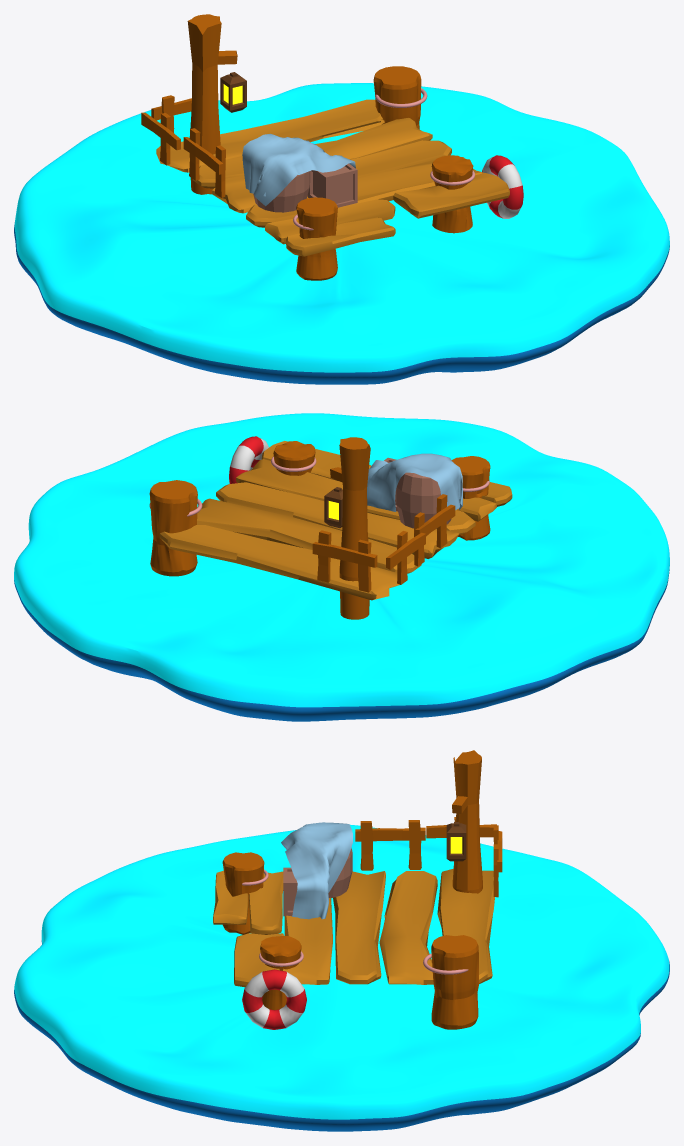
The model's file is beach.glb.
The picture shows the model from 3 angles, top to bottom: view 1: azimuth 30°, elevation 25°; view 2: azimuth 150°, elevation 25°; view 3: azimuth 270°, elevation 25°; orthographic projection.
Visible parts, largest first — view 1: Circle_16, Plane.003_10, Plane.001_9, Cylinder.004_7, Plane_8, Cylinder.001_4, Cylinder.002_5, Cylinder_3, Cube_1, Torus_12, Cylinder.003_6, Cube.001_2; view 2: Circle_16, Plane.003_10, Cylinder.004_7, Plane_8, Cylinder.002_5, Plane.001_9, Cylinder.003_6, Cylinder.001_4, Cylinder_3, Torus_12, Cube.001_2; view 3: Circle_16, Plane.003_10, Plane.001_9, Cylinder.002_5, Cylinder.004_7, Plane_8, Torus_12, Cylinder.001_4, Cylinder_3, Cube.001_2, Cube_1.
Boxes of the visible parts, x1=… form: Circle_16: x1=14, y1=83, x2=669, y2=384; Plane.003_10: x1=156, y1=99, x2=509, y2=256; Plane.001_9: x1=242, y1=133, x2=355, y2=206; Cylinder.004_7: x1=187, y1=14, x2=237, y2=194; Plane_8: x1=141, y1=95, x2=225, y2=197; Cylinder.001_4: x1=296, y1=197, x2=337, y2=280; Cylinder.002_5: x1=373, y1=66, x2=421, y2=129; Cylinder_3: x1=431, y1=155, x2=473, y2=233; Cube_1: x1=307, y1=163, x2=357, y2=207; Torus_12: x1=482, y1=155, x2=523, y2=218; Cylinder.003_6: x1=253, y1=171, x2=310, y2=212; Cube.001_2: x1=220, y1=72, x2=246, y2=112; Circle_16: x1=14, y1=413, x2=669, y2=721; Plane.003_10: x1=159, y1=441, x2=512, y2=600; Cylinder.004_7: x1=330, y1=437, x2=370, y2=619; Plane_8: x1=312, y1=494, x2=455, y2=592; Cylinder.002_5: x1=149, y1=480, x2=197, y2=576; Plane.001_9: x1=367, y1=453, x2=462, y2=511; Cylinder.003_6: x1=395, y1=472, x2=451, y2=528; Cylinder.001_4: x1=451, y1=456, x2=490, y2=540; Cylinder_3: x1=273, y1=441, x2=315, y2=475; Torus_12: x1=229, y1=436, x2=268, y2=483; Cube.001_2: x1=324, y1=487, x2=342, y2=528; Circle_16: x1=14, y1=824, x2=669, y2=1131; Plane.003_10: x1=213, y1=868, x2=494, y2=987; Plane.001_9: x1=281, y1=822, x2=352, y2=919; Cylinder.002_5: x1=431, y1=935, x2=478, y2=1029; Cylinder.004_7: x1=452, y1=750, x2=482, y2=893; Plane_8: x1=355, y1=817, x2=502, y2=897; Torus_12: x1=242, y1=969, x2=306, y2=1029; Cylinder.001_4: x1=222, y1=852, x2=264, y2=934; Cylinder_3: x1=260, y1=936, x2=301, y2=1009; Cube.001_2: x1=446, y1=822, x2=466, y2=861; Cube_1: x1=283, y1=867, x2=297, y2=916.
Bounding box in the file's own units: 12.51 × 5.17 × 12.36.
